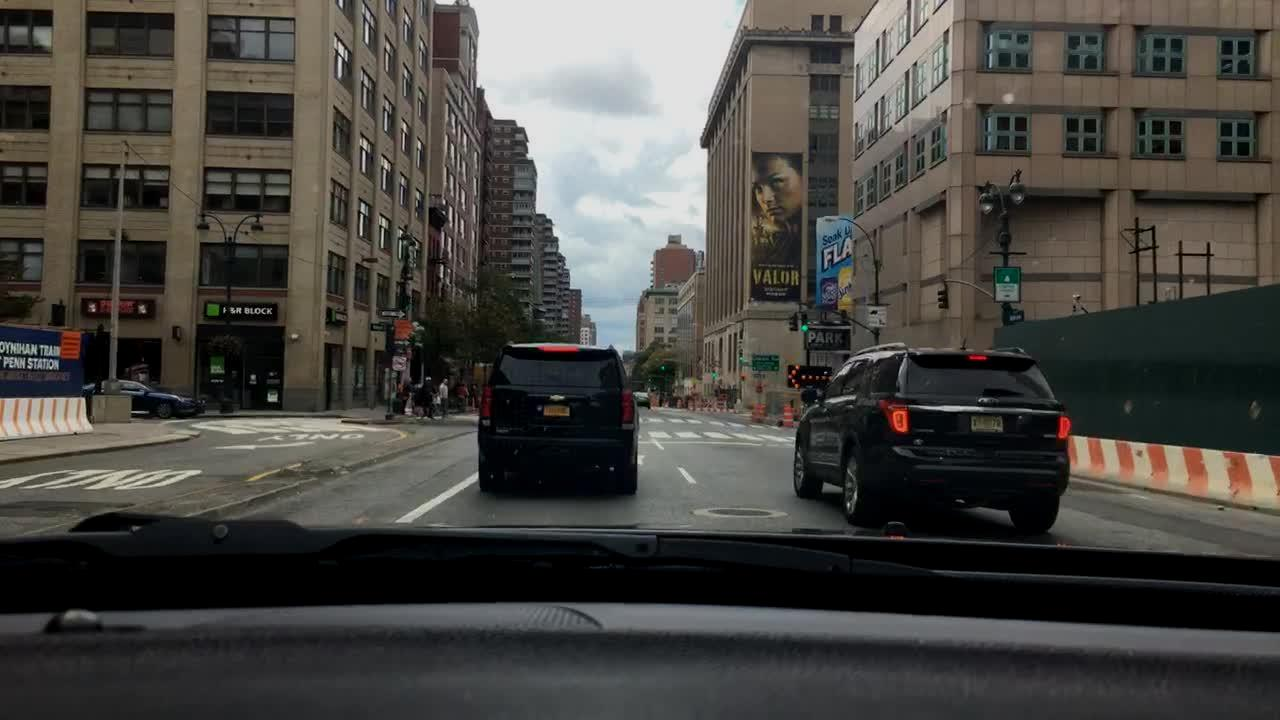chevrolet: (544, 390, 570, 407)
ford: (973, 391, 1004, 410)
